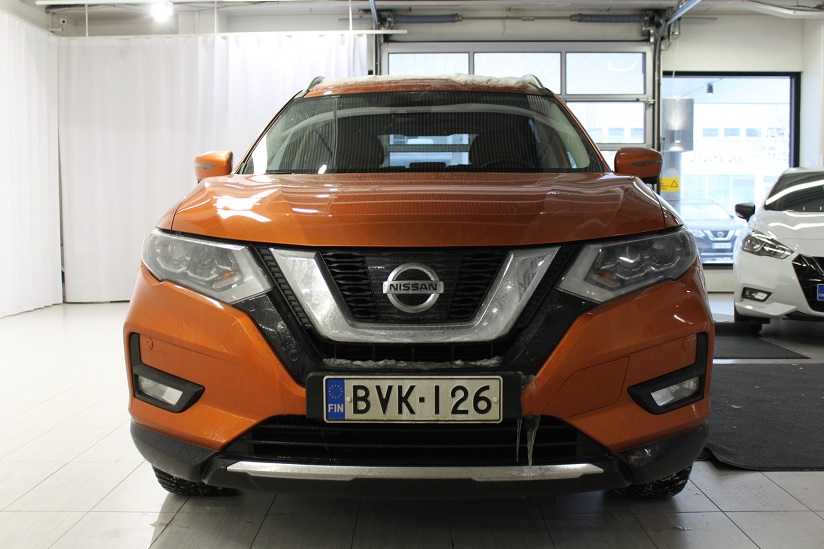license: (322, 375, 499, 426)
